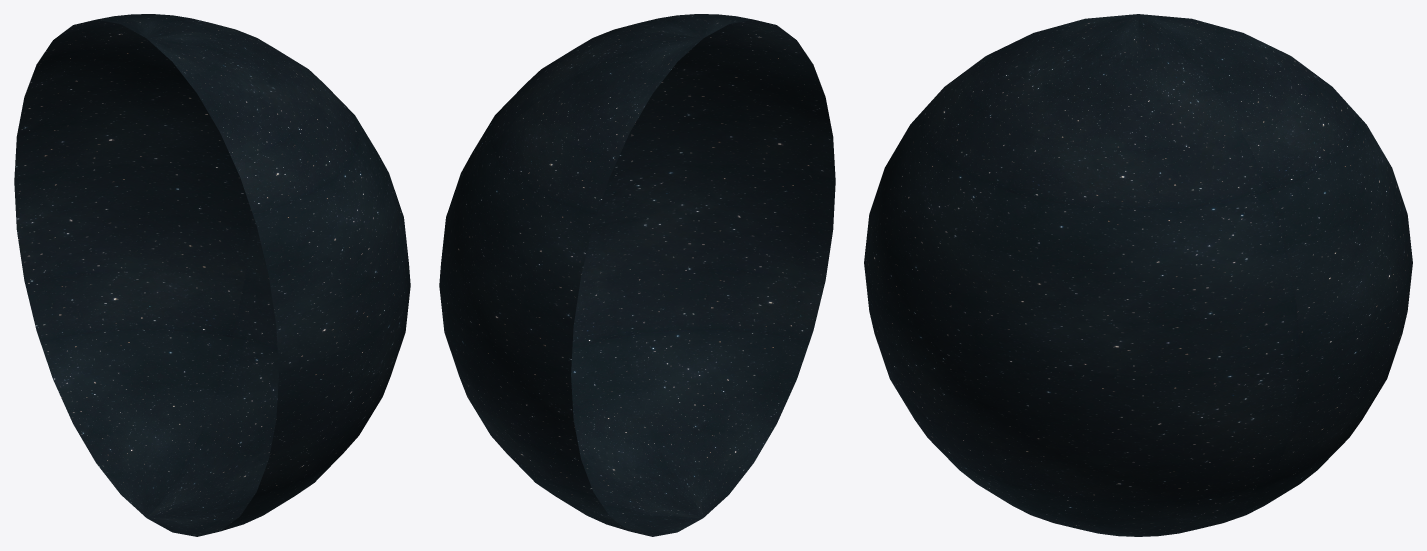
File: space-hemisphere.glb
The picture shows the model from 3 angles, left to right: view 1: azimuth 30°, elevation 25°; view 2: azimuth 150°, elevation 25°; view 3: azimuth 270°, elevation 25°; orthographic projection. The views are drawn at different scales.
Parts seen in each view (by area): view 1: Sphere; view 2: Sphere; view 3: Sphere.
Part boxes in pixels (<box>): Sphere: <box>14,14,410,536</box>; Sphere: <box>439,14,835,536</box>; Sphere: <box>864,14,1412,536</box>.
Size of the model in its own units: 9.49 by 18.98 by 18.98.
Materials: 1 (1 with a texture image).
